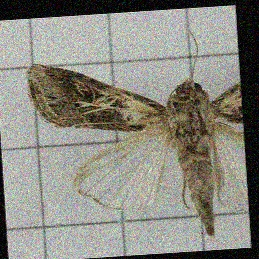Spodoptera litura: (29, 30, 243, 243)
